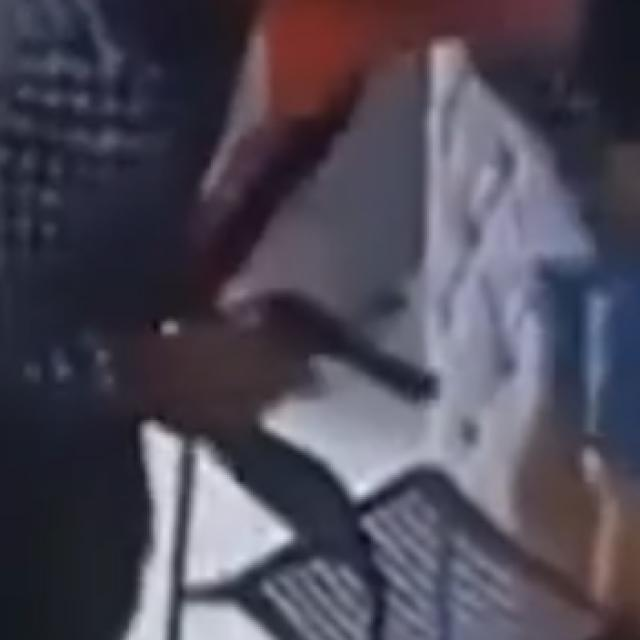FPistol: (240, 272, 454, 428)
